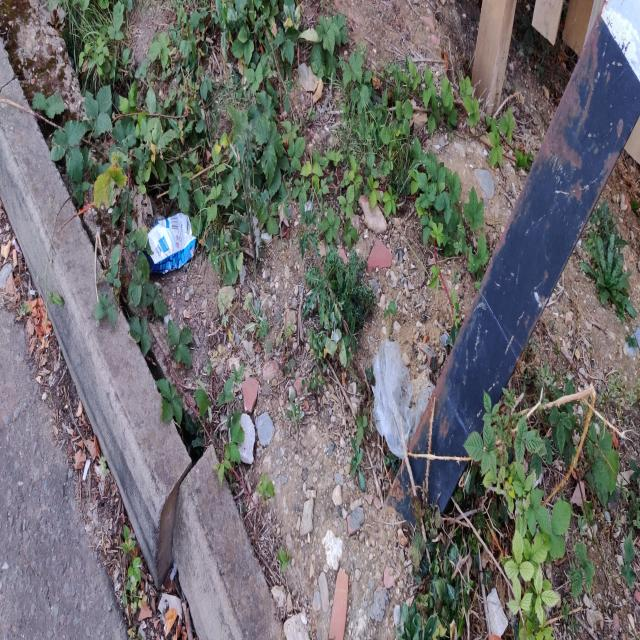litter: (371, 339, 435, 461), (143, 212, 197, 274), (82, 460, 90, 481), (13, 249, 18, 268)
